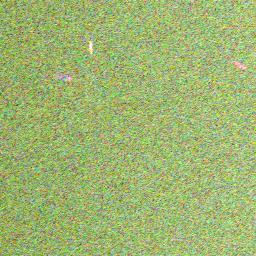Ship: (85, 39, 95, 55)
